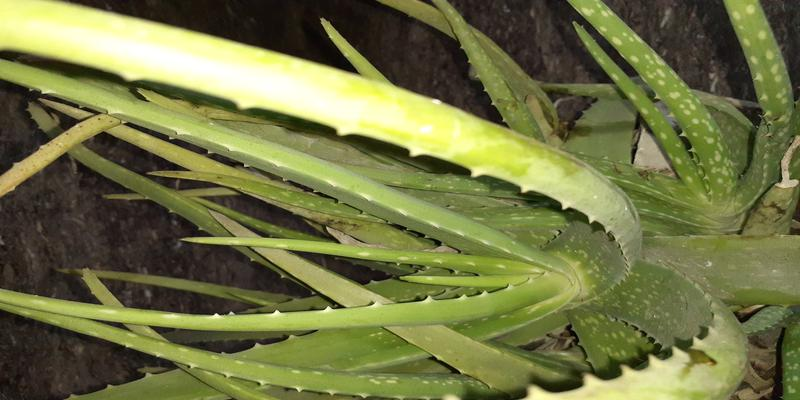Aloevera: (110, 104, 740, 386)
